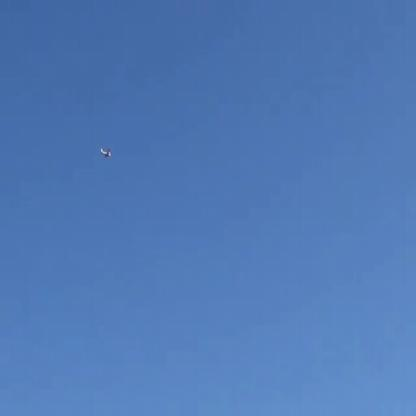CIV_Plane: (100, 147, 112, 158)
